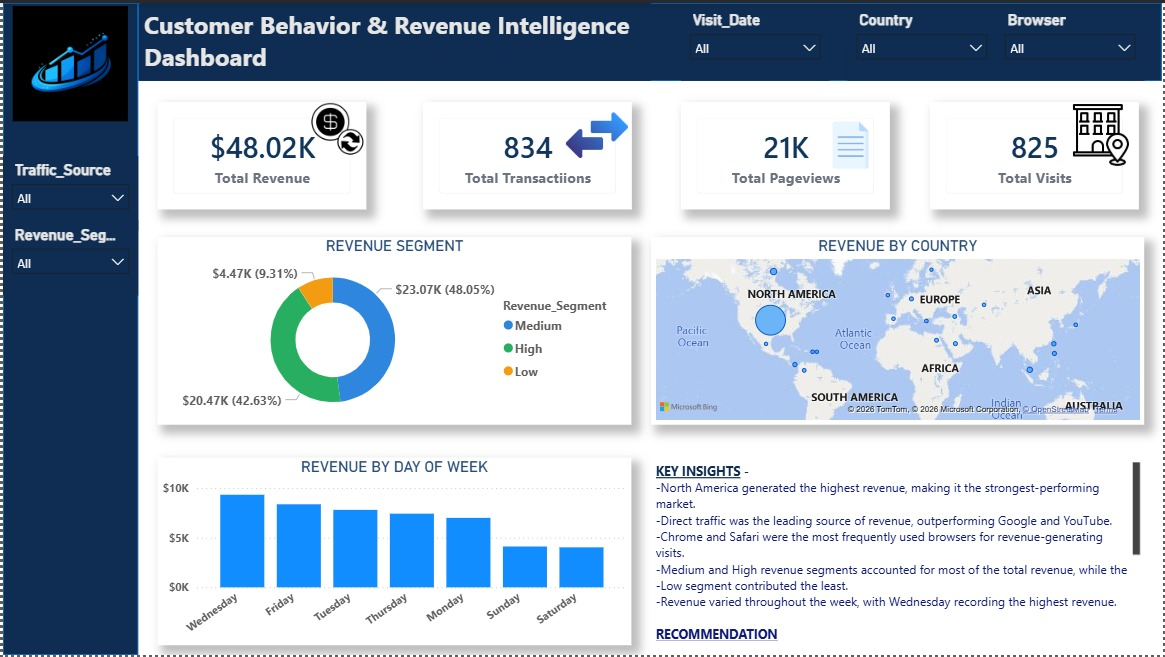

What the dashboard file says about the page in this screenshot:
{"tool":"powerbi","page":{"name":"Customer Insights","canvas":[1280,720],"ordinal":1},"visuals":[{"type":"shape","box":[0,0,149.3,720],"z":0},{"type":"shape","box":[149.6,0,1130.4,86.2],"z":1000},{"type":"textbox","box":[150.7,0,564.9,86.1],"z":2000},{"type":"slicer","fields":{"Values":["FactCustomerBehaviour.Visit_Date"]},"box":[748.2,3.3,164.3,83],"z":3000},{"type":"slicer","fields":{"Values":["FactCustomerBehaviour.Country"]},"box":[932,3.3,164.3,83],"z":4000},{"type":"slicer","fields":{"Values":["FactCustomerBehaviour.Browser"]},"box":[1096.3,3.3,164.3,83],"z":5000},{"type":"cardVisual","fields":{"Data":["FactCustomerBehaviour.Total Revenue"]},"box":[170.8,109,231,118.7],"z":6000},{"type":"cardVisual","fields":{"Data":["FactCustomerBehaviour.Total Transactiions"]},"box":[463.6,109,231,118.7],"z":7000},{"type":"cardVisual","fields":{"Data":["FactCustomerBehaviour.Total Pageviews"]},"box":[748.2,109,231,118.7],"z":8000},{"type":"cardVisual","fields":{"Data":["FactCustomerBehaviour.Total Visits"]},"box":[1023.1,109,231,118.7],"z":9000},{"type":"slicer","fields":{"Values":["FactCustomerBehaviour.Traffic_Source"]},"box":[0,169,149.1,82.8],"z":10000},{"type":"slicer","fields":{"Values":["FactCustomerBehaviour.Revenue_Segment"]},"box":[0,240.2,149.1,82.8],"z":11000},{"type":"donutChart","title":"REVENUE SEGMENT","fields":{"Category":["FactCustomerBehaviour.Revenue_Segment"],"Y":["FactCustomerBehaviour.Total Revenue"]},"box":[170.6,258.4,523.4,207.1],"z":12000},{"type":"map","title":"REVENUE BY COUNTRY","fields":{"Category":["FactCustomerBehaviour.Country"],"Size":["FactCustomerBehaviour.Total Revenue"]},"box":[715.6,258.4,545,207.1],"z":13000},{"type":"clusteredColumnChart","title":"REVENUE BY DAY OF WEEK","fields":{"Y":["FactCustomerBehaviour.Total Revenue"],"Category":["FactCustomerBehaviour.Day Of Week"]},"box":[170.6,501.9,523.4,207.1],"z":14000},{"type":"image","box":[0,3.3,149.1,127.5],"z":15000},{"type":"image","box":[337.9,109.3,62.9,59.6],"z":16000},{"type":"image","box":[1171.1,109.3,82.8,72.9],"z":17000},{"type":"image","box":[618.1,109,76.4,73.2],"z":18000},{"type":"image","box":[893,130.1,86.2,52],"z":19000},{"type":"textbox","box":[715.6,501.9,545,207.1],"z":20000}]}

Visuals, with their boxes on the page's 1280x720 design canvas (x1, y1, x2, y2). These are canvas units, not pixel positions in the 1165x657 screenshot, which may show the page scaled, cropped or inside an application window:
shape: [left=0, top=0, right=149, bottom=720]
shape: [left=150, top=0, right=1280, bottom=86]
textbox: [left=151, top=0, right=716, bottom=86]
slicer - FactCustomerBehaviour.Visit_Date: [left=748, top=3, right=912, bottom=86]
slicer - FactCustomerBehaviour.Country: [left=932, top=3, right=1096, bottom=86]
slicer - FactCustomerBehaviour.Browser: [left=1096, top=3, right=1261, bottom=86]
cardVisual - FactCustomerBehaviour.Total Revenue: [left=171, top=109, right=402, bottom=228]
cardVisual - FactCustomerBehaviour.Total Transactiions: [left=464, top=109, right=695, bottom=228]
cardVisual - FactCustomerBehaviour.Total Pageviews: [left=748, top=109, right=979, bottom=228]
cardVisual - FactCustomerBehaviour.Total Visits: [left=1023, top=109, right=1254, bottom=228]
slicer - FactCustomerBehaviour.Traffic_Source: [left=0, top=169, right=149, bottom=252]
slicer - FactCustomerBehaviour.Revenue_Segment: [left=0, top=240, right=149, bottom=323]
"REVENUE SEGMENT" donutChart: [left=171, top=258, right=694, bottom=466]
"REVENUE BY COUNTRY" map: [left=716, top=258, right=1261, bottom=466]
"REVENUE BY DAY OF WEEK" clusteredColumnChart: [left=171, top=502, right=694, bottom=709]
image: [left=0, top=3, right=149, bottom=131]
image: [left=338, top=109, right=401, bottom=169]
image: [left=1171, top=109, right=1254, bottom=182]
image: [left=618, top=109, right=694, bottom=182]
image: [left=893, top=130, right=979, bottom=182]
textbox: [left=716, top=502, right=1261, bottom=709]
